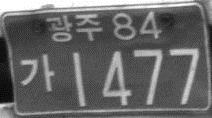1: (70, 49, 88, 109)
4: (101, 50, 133, 106), (138, 9, 163, 40)
7: (167, 46, 201, 106), (131, 47, 164, 107)
8: (111, 10, 137, 41)
가: (18, 54, 54, 92)
광주_O: (45, 13, 103, 44)
